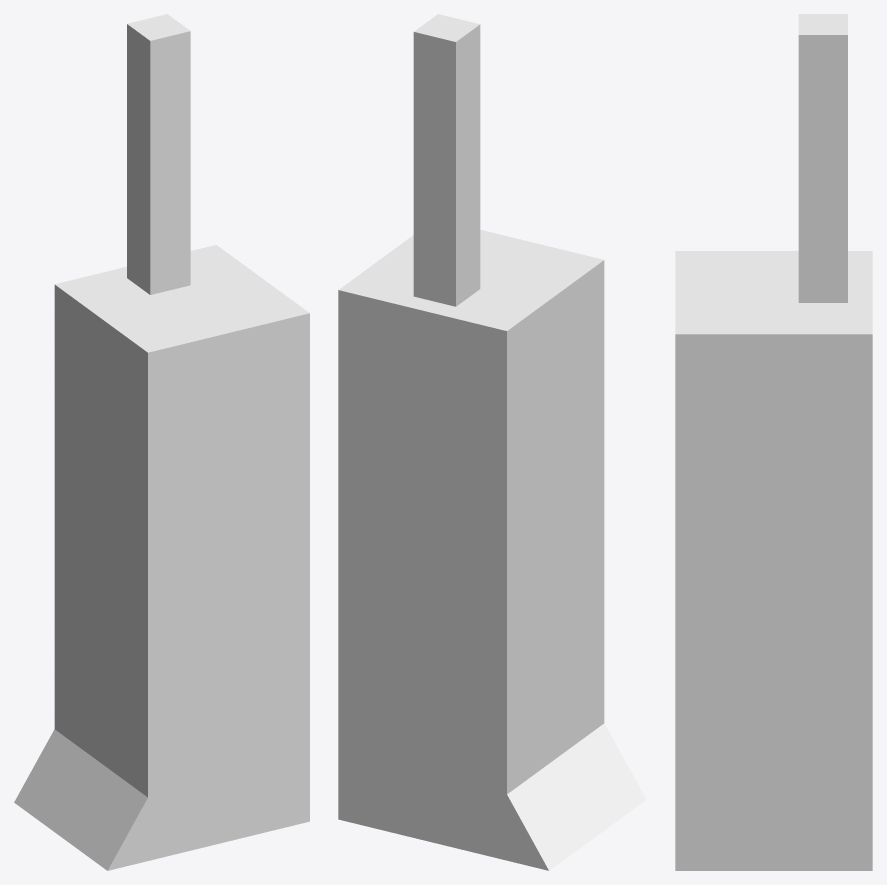
Rendered from 33_pay_phone.glb.
3 renders of one model, left to right at view 1: azimuth 30°, elevation 25°; view 2: azimuth 150°, elevation 25°; view 3: azimuth 270°, elevation 25°, orthographic. The views are drawn at different scales.
Visible parts, largest first — view 1: items/33_pay_phone; view 2: items/33_pay_phone; view 3: items/33_pay_phone.
Part boxes in pixels (x1,y1,x2,y2): items/33_pay_phone: (14, 14, 309, 870); items/33_pay_phone: (338, 14, 646, 870); items/33_pay_phone: (675, 14, 872, 870).
Size of the model in its own units: 0.1562 by 0.5625 by 0.125.
1 material, 1 textured.
